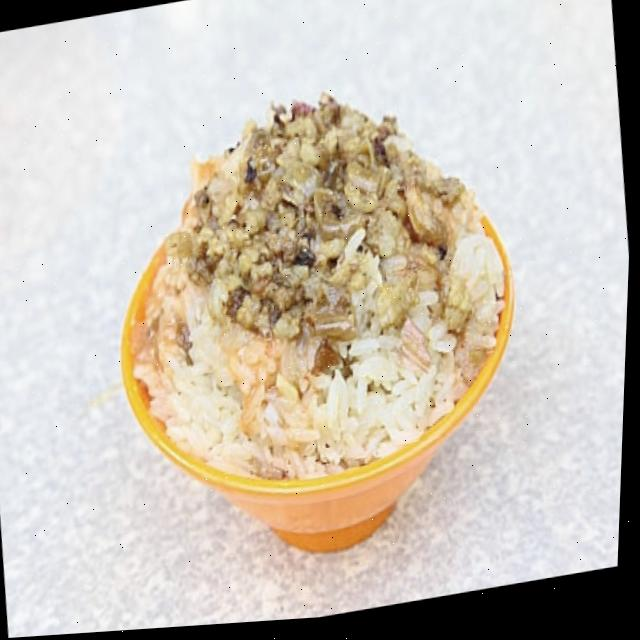米饭主食: (79, 39, 562, 578)
